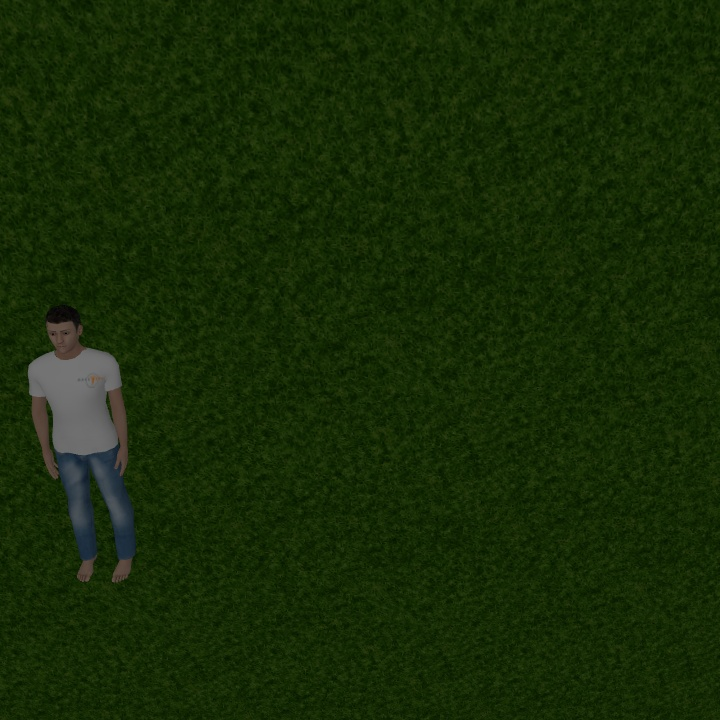victim: (21, 303, 139, 586)
